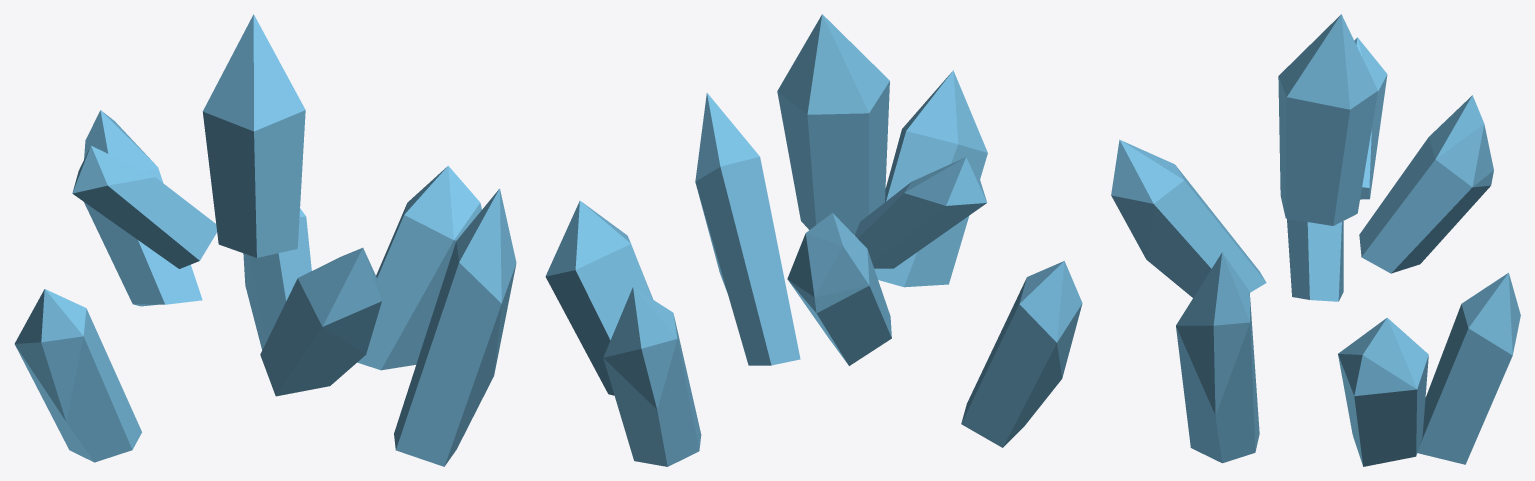
Rendered from DiamondOreA.fbx.
3 views of the same model, side by side, from view 1: azimuth 30°, elevation 25°; view 2: azimuth 150°, elevation 25°; view 3: azimuth 270°, elevation 25° (orthographic). The views are drawn at different scales.
Parts seen in each view (by area): view 1: DiamondOreA; view 2: DiamondOreA; view 3: DiamondOreA.
Part boxes in pixels (<box>): DiamondOreA: <box>14,14,516,466</box>; DiamondOreA: <box>545,14,1082,466</box>; DiamondOreA: <box>1111,14,1520,466</box>.
Bounding box in the file's own units: 58.25 × 49.81 × 46.7.
